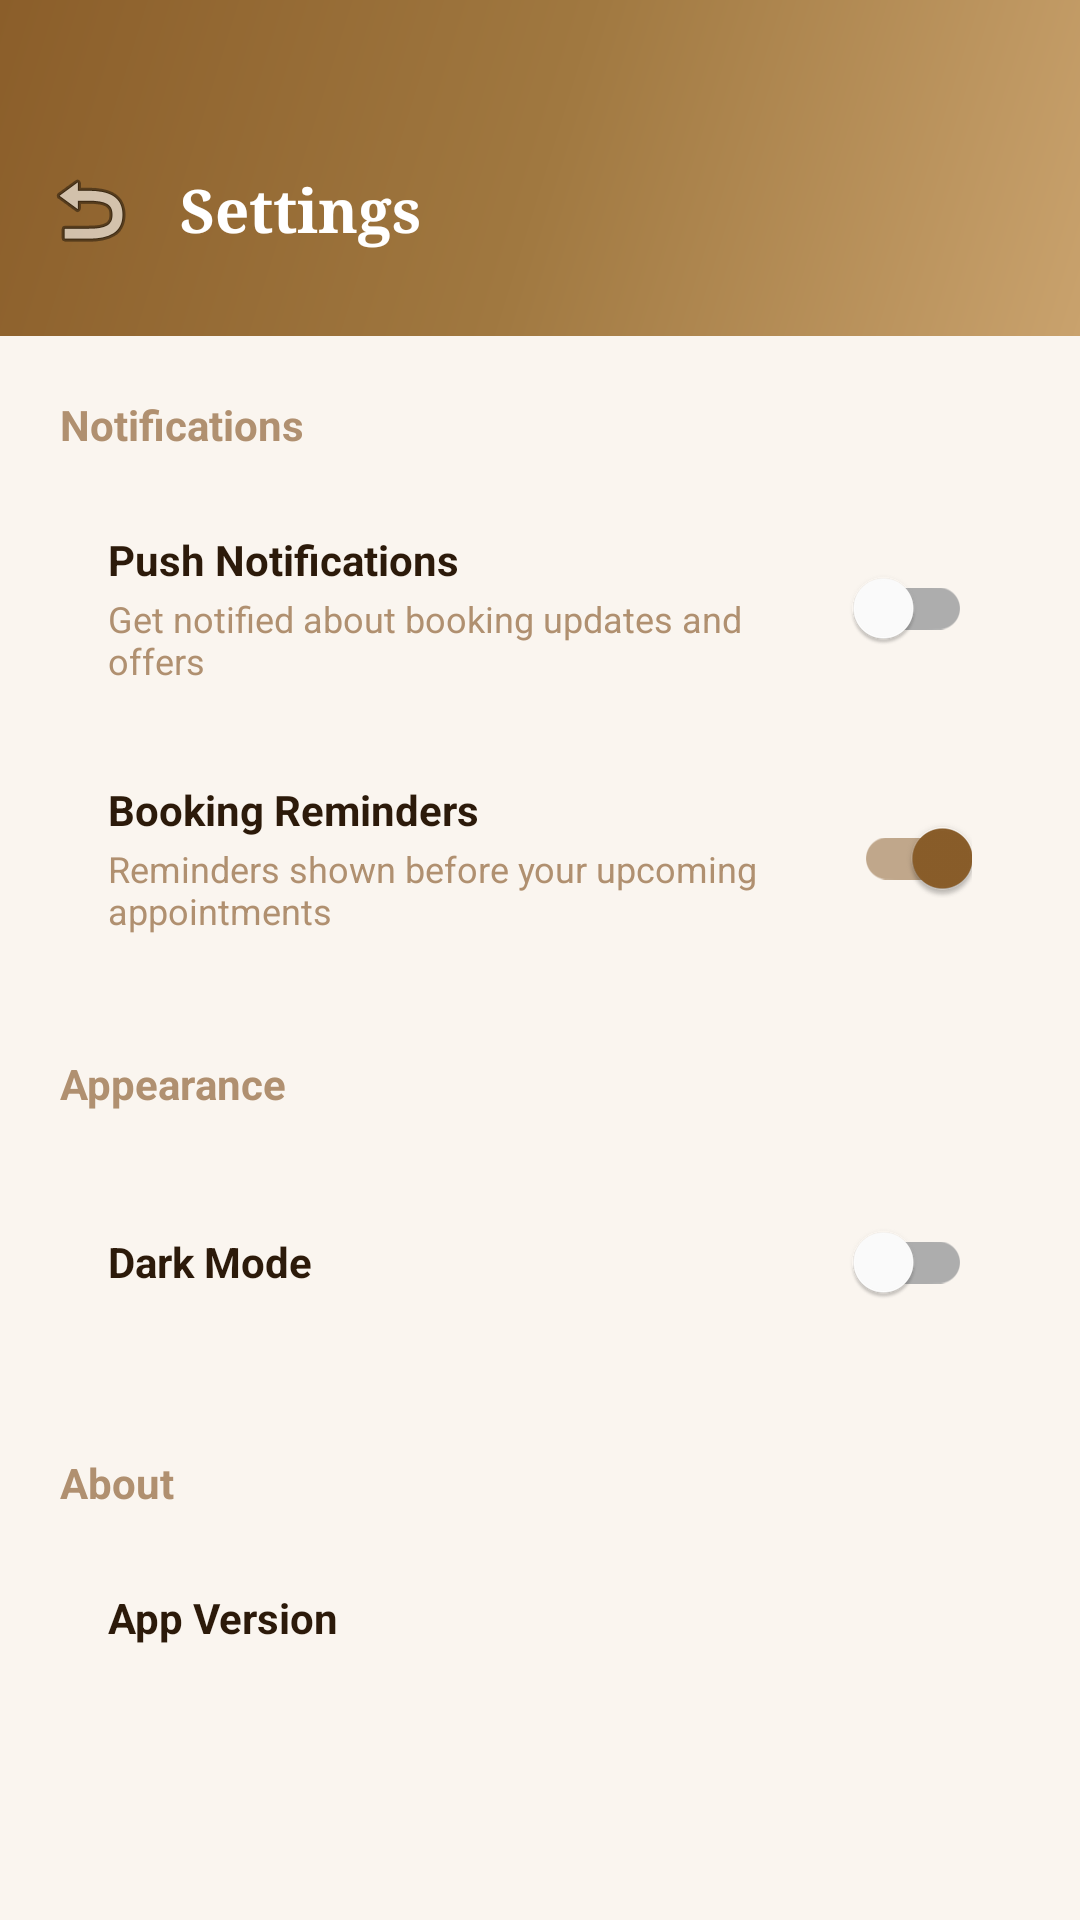

Locate icon controls on the screen. Image size 1080*1920, boxes as Rect(x1, y1, x2, y2).
Back: Rect(57, 180, 126, 242)
